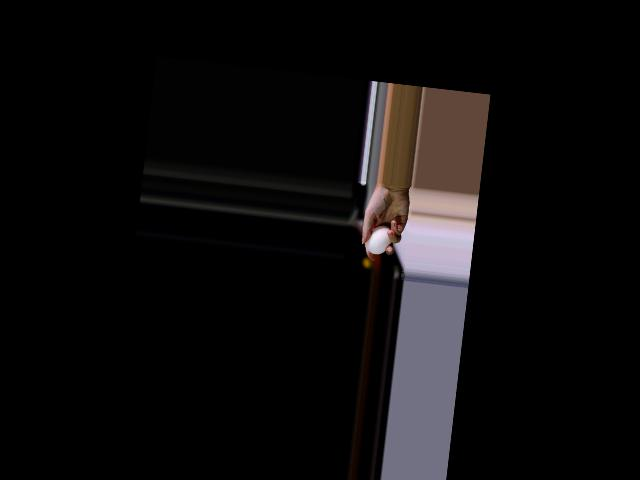egg: (365, 224, 392, 256)
